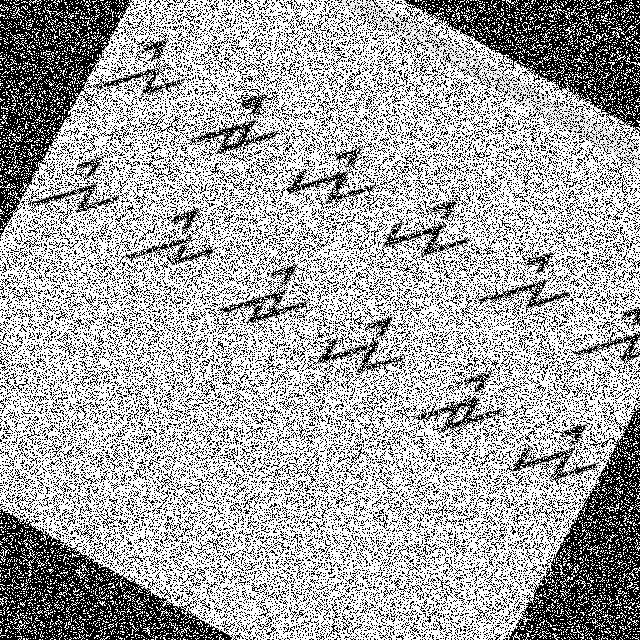li: (113, 178, 240, 303), (468, 221, 590, 346), (80, 15, 202, 140), (25, 130, 142, 248), (552, 266, 639, 401)
ri: (211, 235, 329, 362), (178, 70, 296, 190), (404, 348, 519, 464)
yi: (367, 166, 492, 290), (304, 282, 428, 402), (498, 394, 618, 514), (280, 116, 398, 232)
